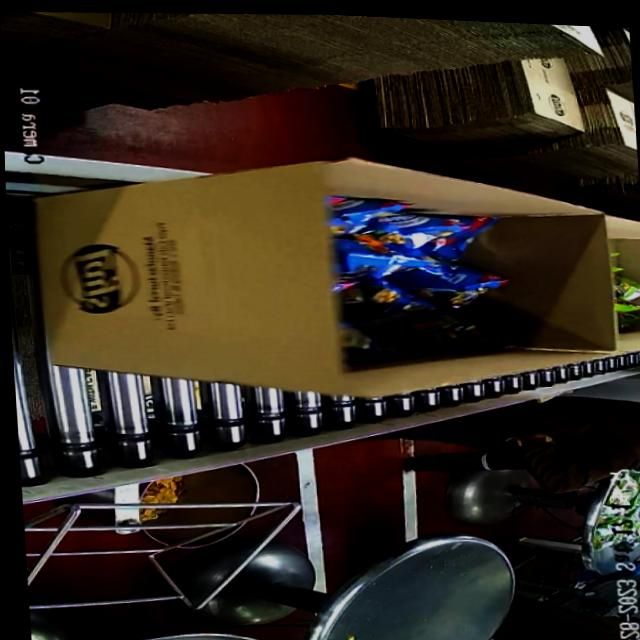PAPRIKA: (326, 197, 512, 367)
